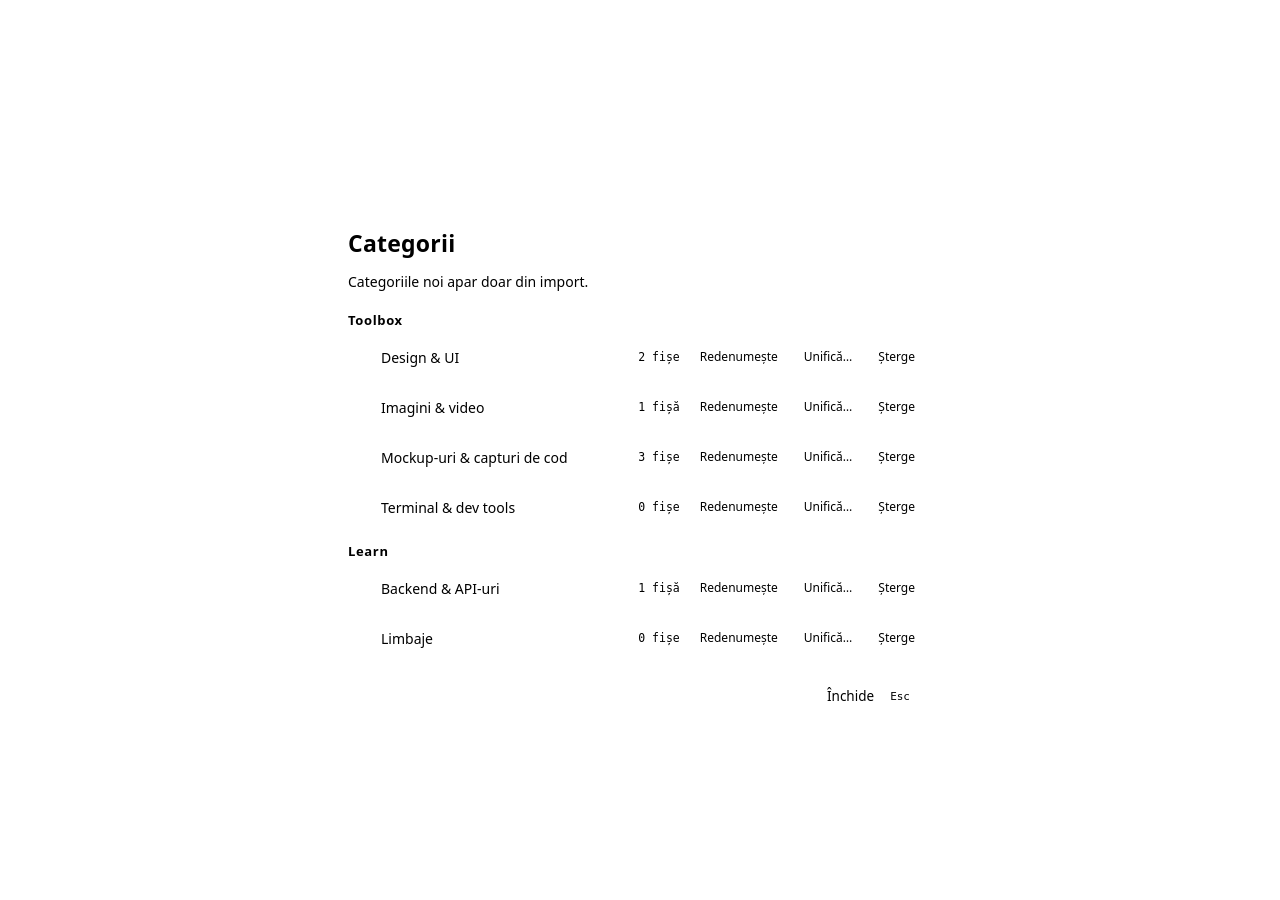
Test: CategoryManager: renaming in place › turns the row into a focused field with the hints
The width and height of the screenshot is (1280, 900).
Click the button "Redenumește" in the row of "Mockup-uri & capturi de cod". click: (739, 457)
box: left=690, top=443, right=788, bottom=471
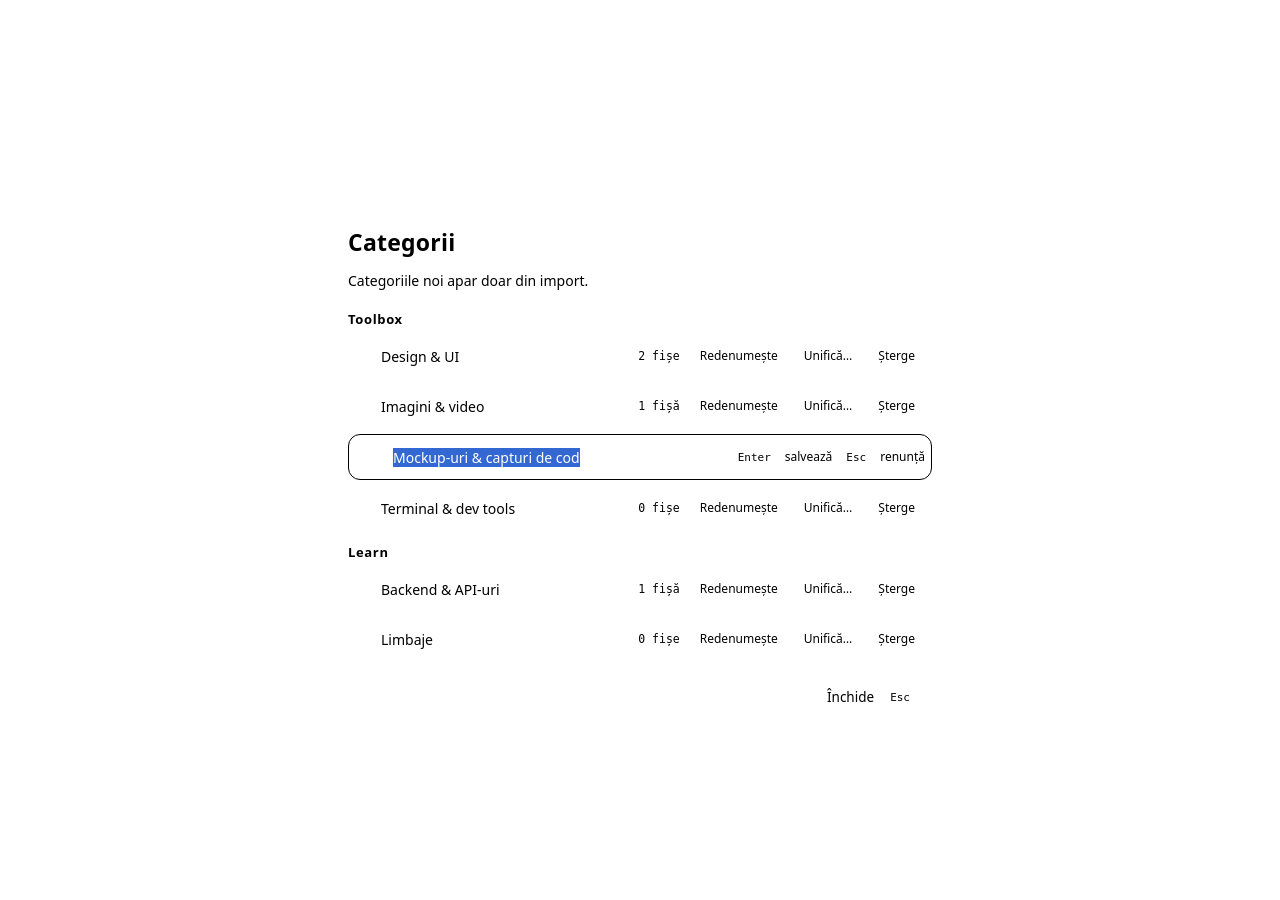
Expected: the field named "Numele categoriei" holds "Mockup-uri & capturi de cod", left=381, top=439, right=720, bottom=475
Expected: the element with class "category-manager-hints" reads "Enter salvează Esc renunță", left=730, top=448, right=925, bottom=467
